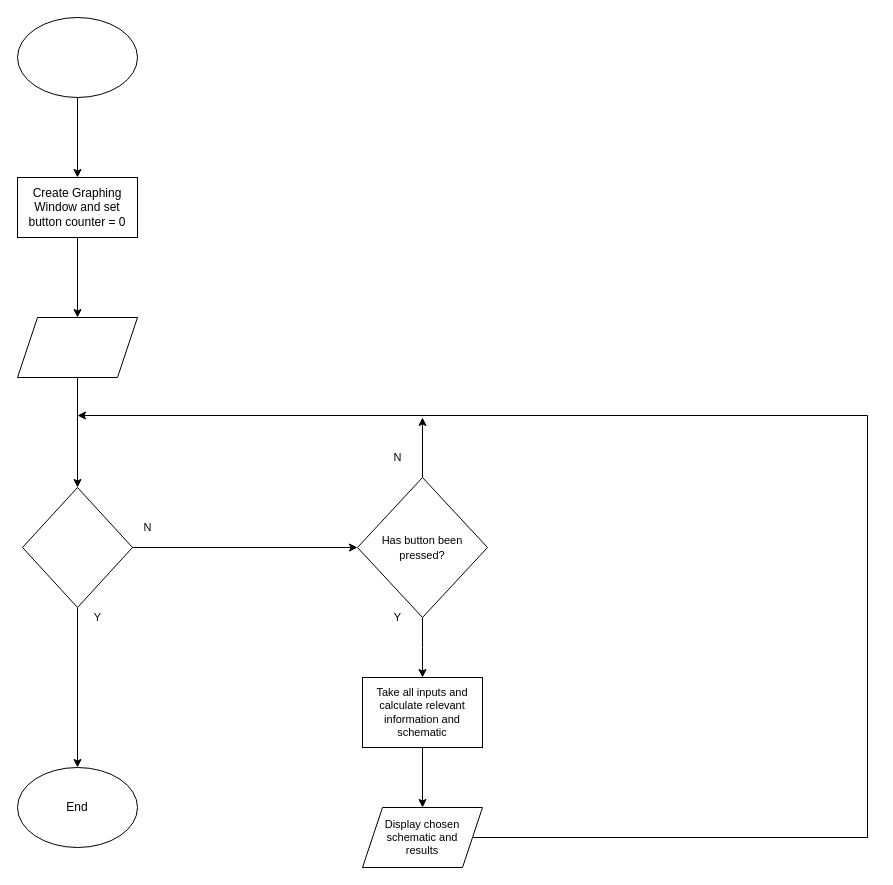
Some shapes in this 893 by 885 pixel diagram are drawn without their labels. The shapes that lost their labels are listed below. From the top down, each one's centre as x and y in pixels, then its label:
At [77,57]: "Start".
At [77,347]: "Display main window".
At [77,547]: "Has user pressed the exit button?".
